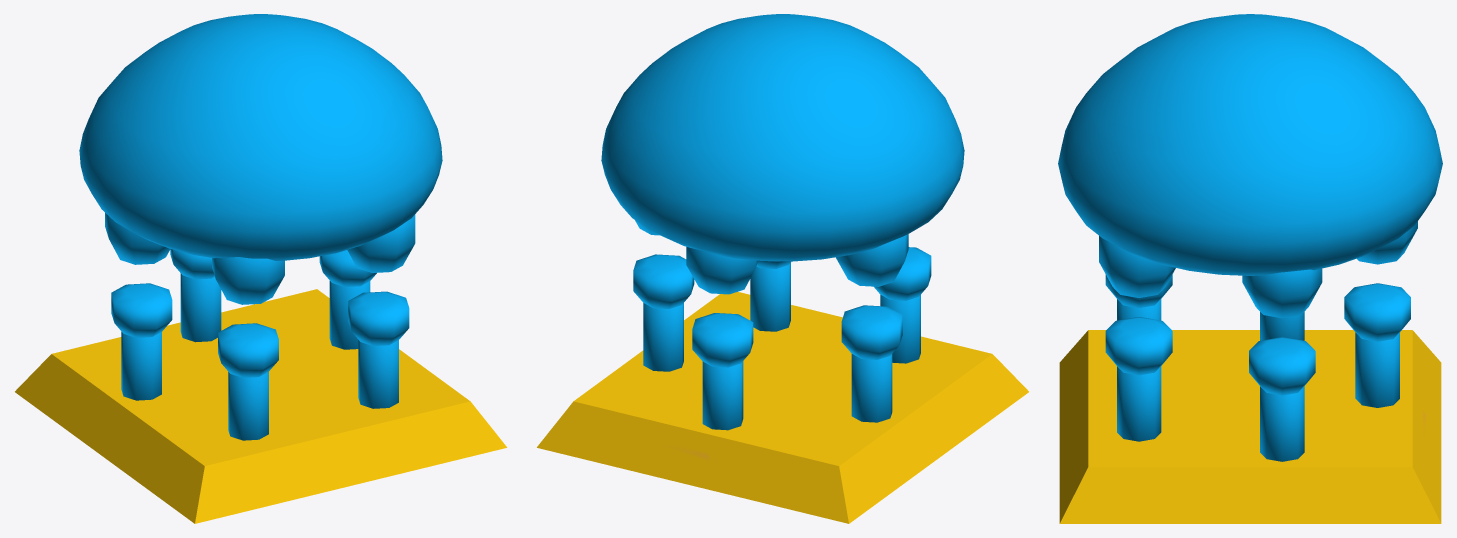
File: Ideya Palace.fbx
3 views of the same model, side by side, from view 1: azimuth 30°, elevation 25°; view 2: azimuth 150°, elevation 25°; view 3: azimuth 270°, elevation 25° (orthographic). The views are drawn at different scales.
Parts seen in each view (by area): view 1: Sphere, Base, Cylinder.005, Cylinder.009, Cylinder.006, Cylinder.011, Cylinder.007, Cylinder.004, Cylinder.008, Cylinder, Cylinder.010, Cylinder.003 (+3 smaller); view 2: Sphere, Base, Cylinder.005, Cylinder.001, Cylinder.002, Cylinder, Cylinder.004, Cylinder.003, Cylinder.008, Cylinder.014, Cylinder.012, Cylinder.006 (+1 smaller); view 3: Sphere, Base, Cylinder.009, Cylinder.002, Cylinder.001, Cylinder.003, Cylinder, Cylinder.008, Cylinder.013, Cylinder.010, Cylinder.004, Cylinder.014 (+2 smaller).
Part boxes in pixels (bbox=[...]): Sphere: bbox=[79, 14, 442, 260]; Base: bbox=[15, 289, 506, 523]; Cylinder.005: bbox=[111, 283, 172, 337]; Cylinder.009: bbox=[348, 291, 409, 345]; Cylinder.006: bbox=[218, 323, 278, 377]; Cylinder.011: bbox=[212, 257, 284, 304]; Cylinder.007: bbox=[228, 372, 268, 440]; Cylinder.004: bbox=[121, 331, 161, 400]; Cylinder.008: bbox=[358, 340, 398, 408]; Cylinder: bbox=[180, 273, 221, 342]; Cylinder.010: bbox=[347, 214, 415, 272]; Cylinder.003: bbox=[329, 281, 370, 349]; Sphere: bbox=[601, 14, 964, 261]; Base: bbox=[537, 292, 1028, 523]; Cylinder.005: bbox=[841, 305, 902, 359]; Cylinder.001: bbox=[692, 313, 753, 367]; Cylinder.002: bbox=[633, 254, 694, 308]; Cylinder: bbox=[702, 361, 743, 430]; Cylinder.004: bbox=[851, 354, 892, 422]; Cylinder.003: bbox=[643, 303, 683, 371]; Cylinder.008: bbox=[750, 263, 790, 331]; Cylinder.014: bbox=[686, 247, 757, 294]; Cylinder.012: bbox=[836, 234, 908, 286]; Cylinder.006: bbox=[874, 247, 931, 300]; Sphere: bbox=[1058, 14, 1442, 275]; Base: bbox=[1059, 330, 1441, 523]; Cylinder.009: bbox=[1105, 317, 1172, 375]; Cylinder.002: bbox=[1249, 337, 1315, 395]; Cylinder.001: bbox=[1344, 283, 1410, 341]; Cylinder.003: bbox=[1260, 386, 1304, 461]; Cylinder: bbox=[1355, 332, 1399, 407]; Cylinder.008: bbox=[1117, 366, 1161, 441]; Cylinder.013: bbox=[1242, 268, 1322, 318]; Cylinder.010: bbox=[1099, 236, 1175, 297]; Cylinder.004: bbox=[1260, 312, 1304, 340]; Cylinder.014: bbox=[1357, 221, 1417, 264].
Size of the model in its own units: 605 by 711 by 605.
2 materials, 2 textured.
